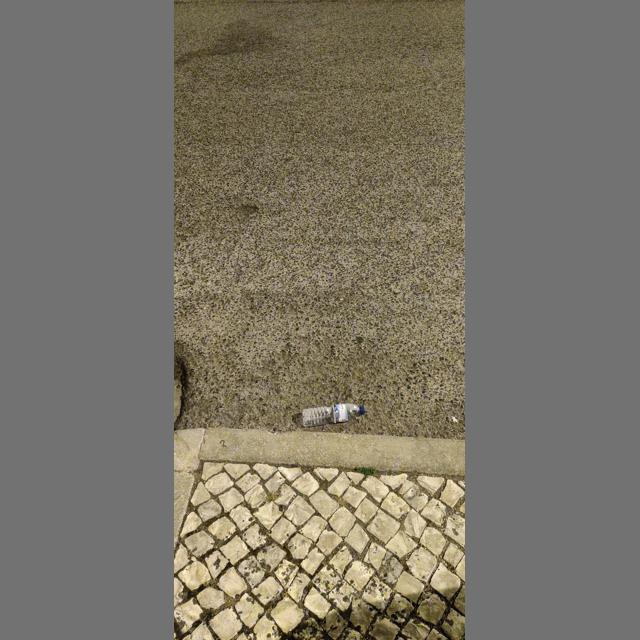litter: (302, 403, 365, 427), (362, 405, 365, 415)
